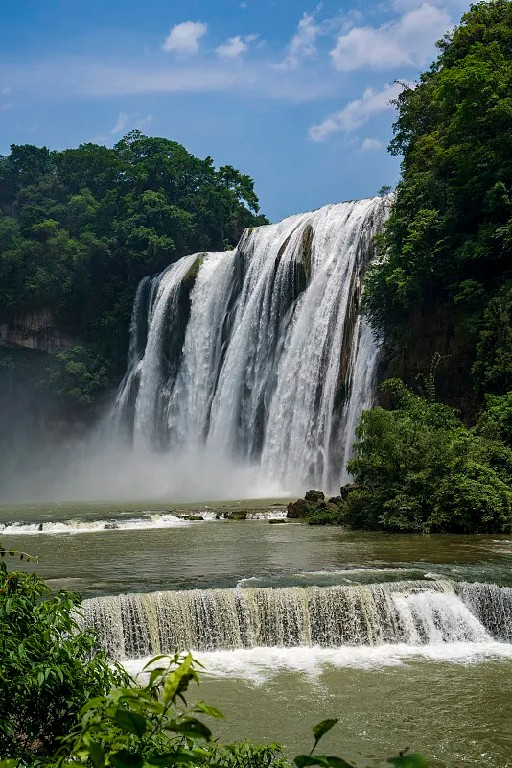Huangguoshu: (112, 192, 394, 496)
